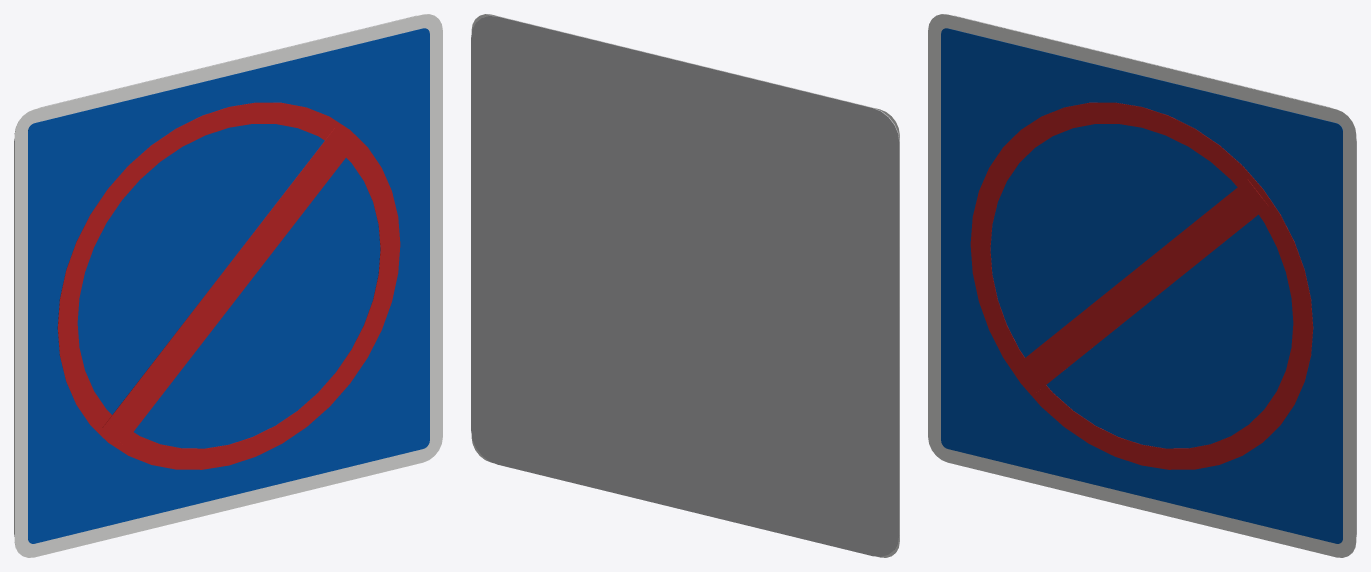
The picture shows the model from 3 angles, left to right: view 1: azimuth 30°, elevation 25°; view 2: azimuth 150°, elevation 25°; view 3: azimuth 330°, elevation 25°; orthographic projection.
Visible parts, largest first — view 1: B6b_r01, B6b_r00, B6b_o02, B6b_p03, B6b_dos; view 2: B6b_dos, B6b_r00; view 3: B6b_r01, B6b_r00, B6b_o02, B6b_p03, B6b_dos.
Boxes of the visible parts, x1,y1,x2,y2 form: B6b_r01: [28, 28, 429, 543]; B6b_r00: [14, 14, 442, 557]; B6b_o02: [57, 102, 400, 469]; B6b_p03: [102, 128, 355, 444]; B6b_dos: [14, 15, 416, 536]; B6b_dos: [471, 15, 899, 556]; B6b_r00: [471, 14, 899, 557]; B6b_r01: [941, 28, 1342, 543]; B6b_r00: [928, 14, 1356, 557]; B6b_o02: [970, 102, 1313, 469]; B6b_p03: [1015, 179, 1268, 392]; B6b_dos: [954, 15, 1356, 536].
Size of the model in its own units: 0.65 by 0.65 by 0.0029.
